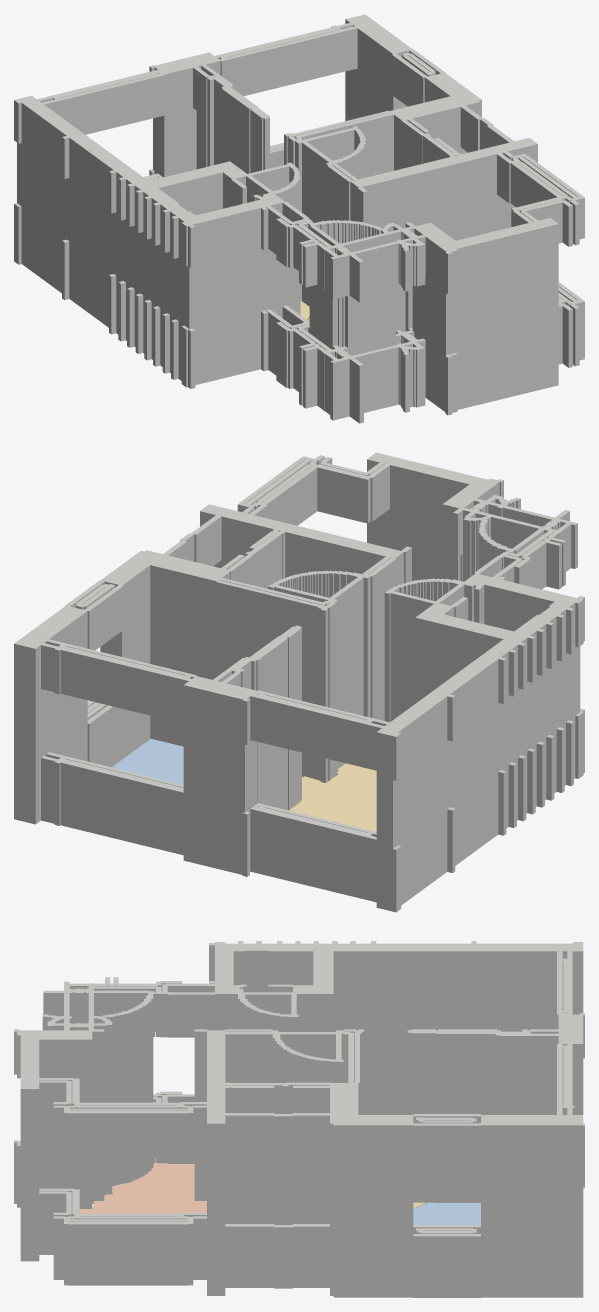
3 views of the same model, one above another, from view 1: azimuth 30°, elevation 25°; view 2: azimuth 150°, elevation 25°; view 3: azimuth 270°, elevation 25° (orthographic). The views are drawn at different scales.
Visible parts, largest first — view 1: walls; view 2: walls, room:living:1, room:bedroom:0; view 3: walls, room:kitchen:5, room:bedroom:0.
Part boxes in pixels (<box>): walls: <box>14,14,584,423</box>; walls: <box>14,452,584,912</box>; room:living:1: <box>289,763,376,831</box>; room:bedroom:0: <box>112,739,302,784</box>; walls: <box>14,941,584,1297</box>; room:kitchen:5: <box>79,1157,206,1213</box>; room:bedroom:0: <box>413,1202,480,1224</box>.
Size of the model in its own units: 6.42 by 2.8 by 8.41.
